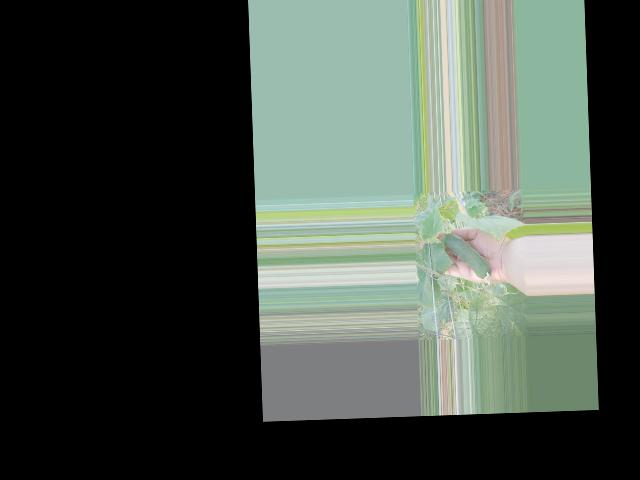cucumber: (443, 232, 492, 287)
